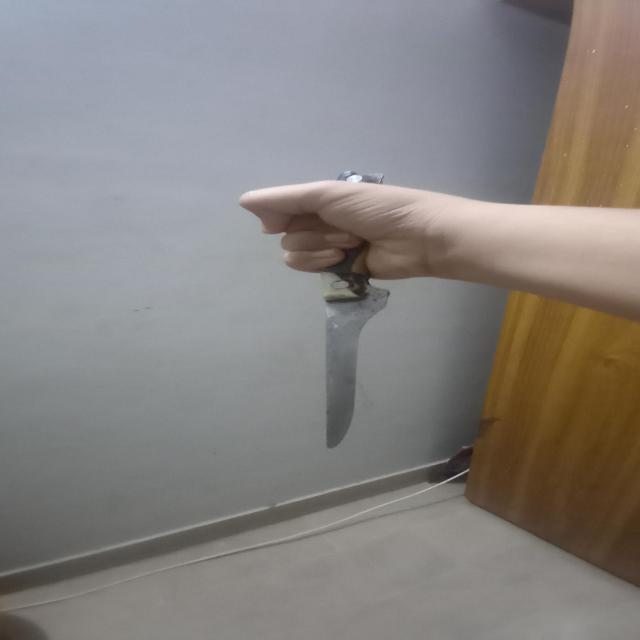Knife: (328, 170, 388, 448)
Person: (243, 180, 640, 320)
